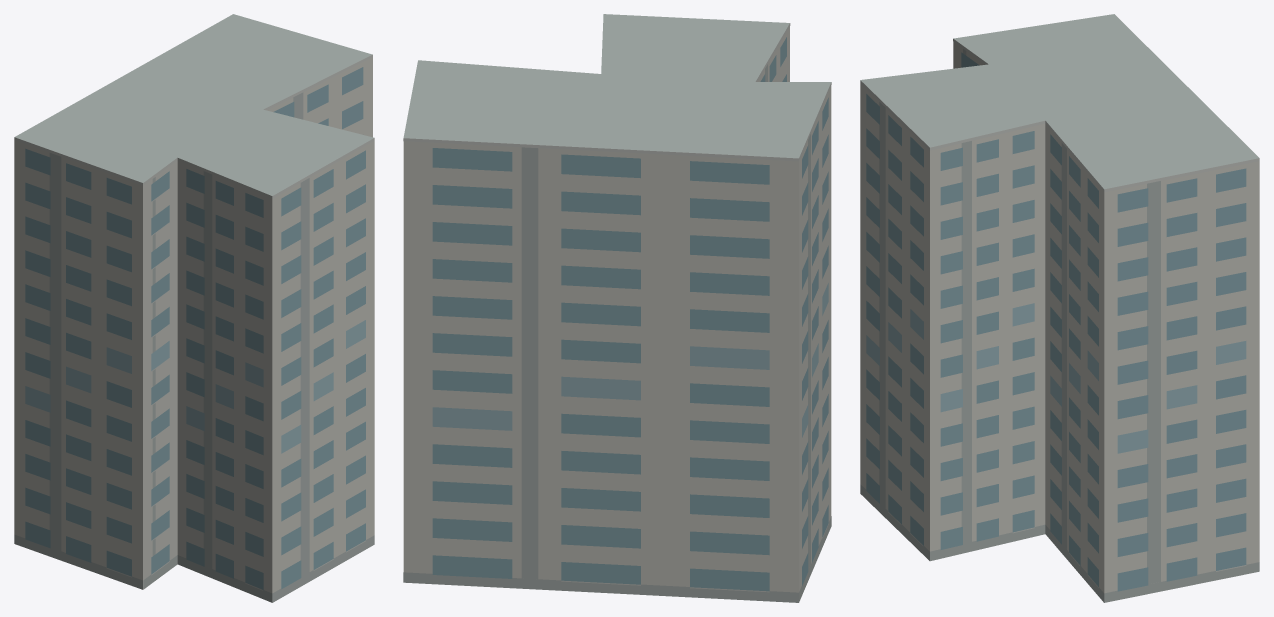
The model's file is residential-c8f0a391-a5b0-4b1b-bedc-43974a27dc57.glb.
The picture shows the model from 3 angles, left to right: view 1: azimuth 30°, elevation 25°; view 2: azimuth 150°, elevation 25°; view 3: azimuth 270°, elevation 25°; orthographic projection. The views are drawn at different scales.
Visible parts, largest first — view 1: residential-c8f0a391-a5b0-4b1b-bedc-43974a27dc57.tmp; view 2: residential-c8f0a391-a5b0-4b1b-bedc-43974a27dc57.tmp; view 3: residential-c8f0a391-a5b0-4b1b-bedc-43974a27dc57.tmp.
Boxes of the visible parts, x1,y1,x2,y2 form: residential-c8f0a391-a5b0-4b1b-bedc-43974a27dc57.tmp: (14, 14, 374, 602); residential-c8f0a391-a5b0-4b1b-bedc-43974a27dc57.tmp: (403, 14, 831, 602); residential-c8f0a391-a5b0-4b1b-bedc-43974a27dc57.tmp: (860, 14, 1259, 602).
Bounding box in the file's own units: 31.84 × 35 × 30.65.
